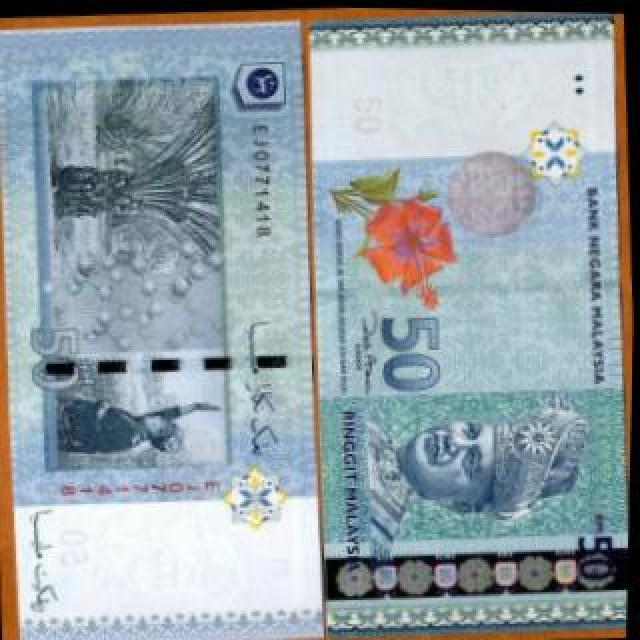50 Ringgit: (300, 6, 640, 640), (0, 6, 336, 640)
